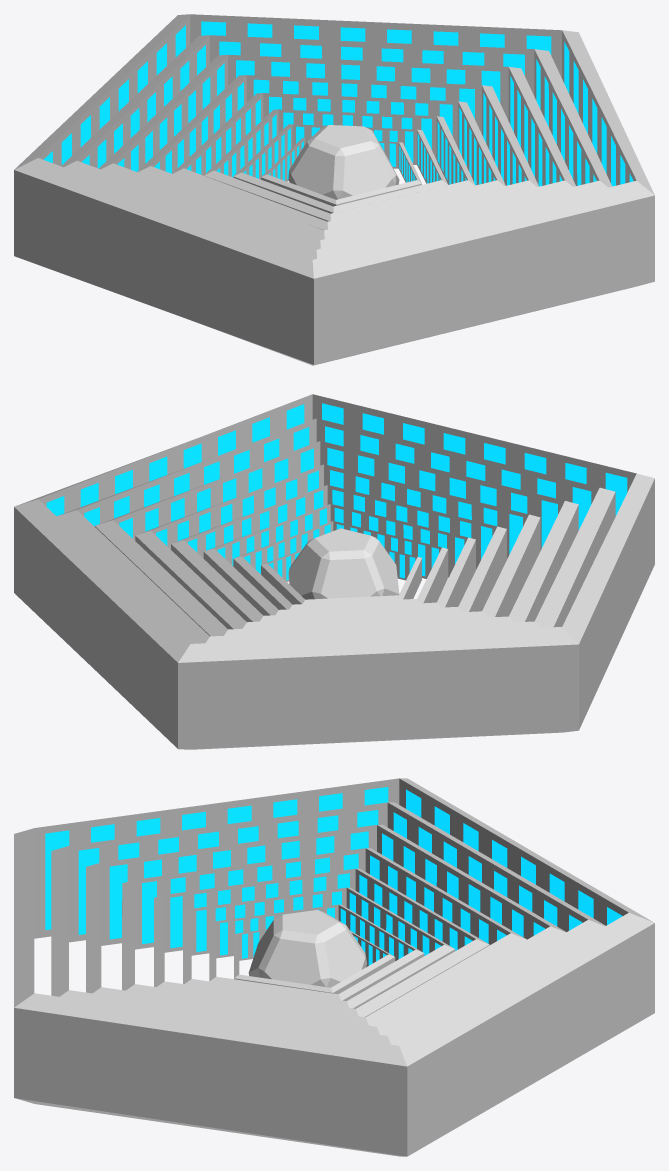
File: Pentagon(Layered).fbx
3 renders of one model, top to bottom at view 1: azimuth 30°, elevation 25°; view 2: azimuth 150°, elevation 25°; view 3: azimuth 270°, elevation 25°, orthographic. The views are drawn at different scales.
Parts seen in each view (by area): view 1: Pentagon 1 Outer, Pentagon 2, Pentagon 3, Pentagon 4 middle, Pentagon 5, Pentagon 6, Rownos, Pentagon 7, Pentagon 8 Inner; view 2: Pentagon 1 Outer, Pentagon 2, Pentagon 3, Pentagon 4 middle, Pentagon 5, Pentagon 6, Rownos, Pentagon 7, Pentagon 8 Inner; view 3: Pentagon 1 Outer, Pentagon 2, Pentagon 3, Pentagon 4 middle, Pentagon 5, Pentagon 6, Rownos, Pentagon 7, Pentagon 8 Inner.
Part boxes in pixels (x1=…): Pentagon 1 Outer: x1=14, y1=14, x2=654, y2=365; Pentagon 2: x1=61, y1=35, x2=612, y2=259; Pentagon 3: x1=99, y1=54, x2=575, y2=249; Pentagon 4 middle: x1=137, y1=75, x2=538, y2=240; Pentagon 5: x1=172, y1=93, x2=505, y2=230; Pentagon 6: x1=204, y1=109, x2=475, y2=221; Rownos: x1=288, y1=125, x2=399, y2=199; Pentagon 7: x1=233, y1=124, x2=447, y2=213; Pentagon 8 Inner: x1=261, y1=138, x2=421, y2=206; Pentagon 1 Outer: x1=14, y1=394, x2=654, y2=749; Pentagon 2: x1=57, y1=418, x2=615, y2=643; Pentagon 3: x1=94, y1=441, x2=578, y2=636; Pentagon 4 middle: x1=135, y1=464, x2=540, y2=629; Pentagon 5: x1=171, y1=485, x2=506, y2=622; Pentagon 6: x1=203, y1=504, x2=475, y2=615; Rownos: x1=288, y1=528, x2=399, y2=599; Pentagon 7: x1=233, y1=521, x2=448, y2=609; Pentagon 8 Inner: x1=261, y1=549, x2=421, y2=604; Pentagon 1 Outer: x1=14, y1=778, x2=654, y2=1156; Pentagon 2: x1=51, y1=802, x2=605, y2=1045; Pentagon 3: x1=86, y1=824, x2=566, y2=1035; Pentagon 4 middle: x1=122, y1=848, x2=526, y2=1026; Pentagon 5: x1=154, y1=868, x2=489, y2=1017; Pentagon 6: x1=183, y1=887, x2=455, y2=1008; Rownos: x1=248, y1=910, x2=367, y2=987; Pentagon 7: x1=209, y1=904, x2=424, y2=1001; Pentagon 8 Inner: x1=234, y1=929, x2=395, y2=994.
Size of the model in its own units: 531 by 499 by 97.03.
